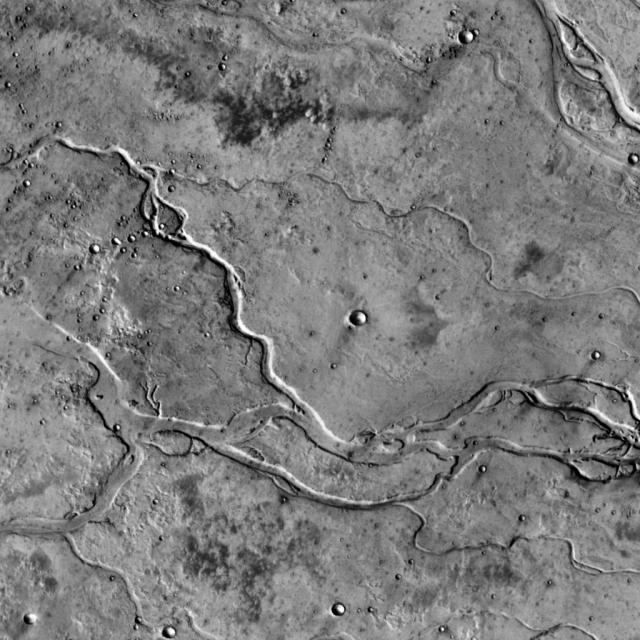crater: (357, 311, 374, 326), (466, 29, 482, 43), (172, 626, 184, 638), (341, 604, 353, 614), (32, 613, 44, 623), (96, 243, 107, 253), (30, 178, 38, 186), (600, 352, 609, 359), (134, 234, 142, 241), (119, 236, 127, 243), (486, 464, 493, 471), (226, 62, 233, 69), (479, 28, 487, 34), (55, 114, 63, 120), (141, 222, 148, 228)
